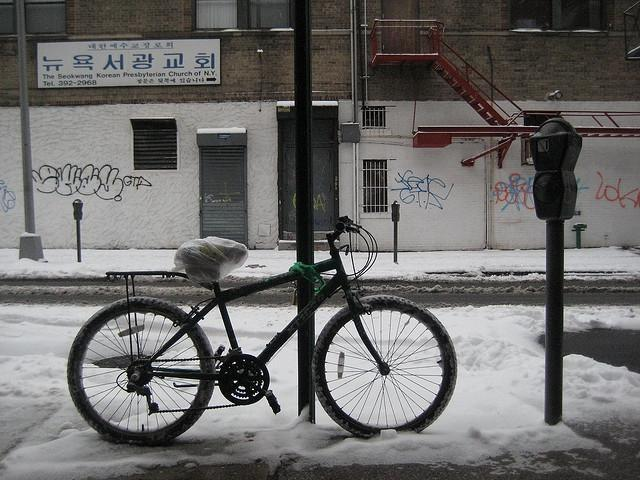bicycle: (66, 216, 460, 446)
